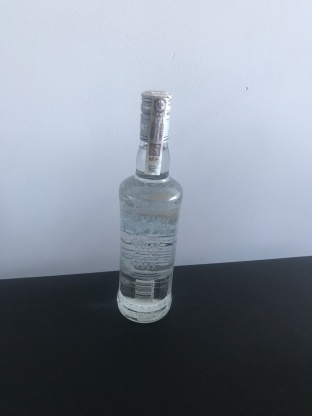nakretka: (137, 85, 174, 145)
